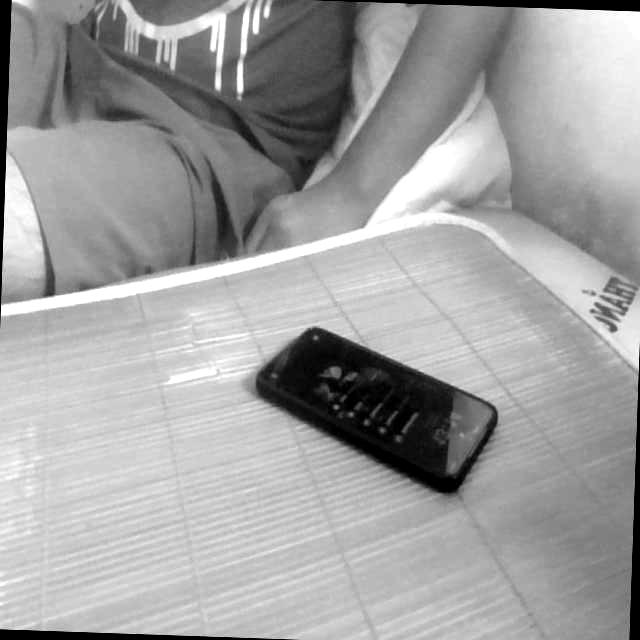phone: (229, 304, 522, 514)
